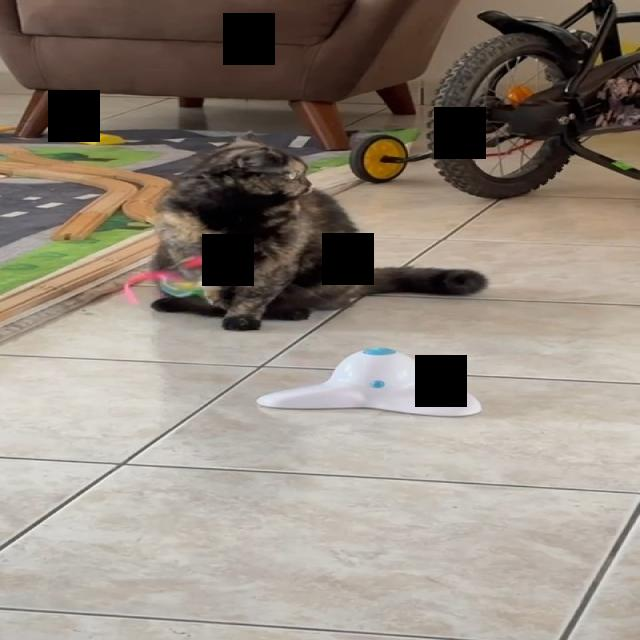authorized: (147, 130, 488, 332)
